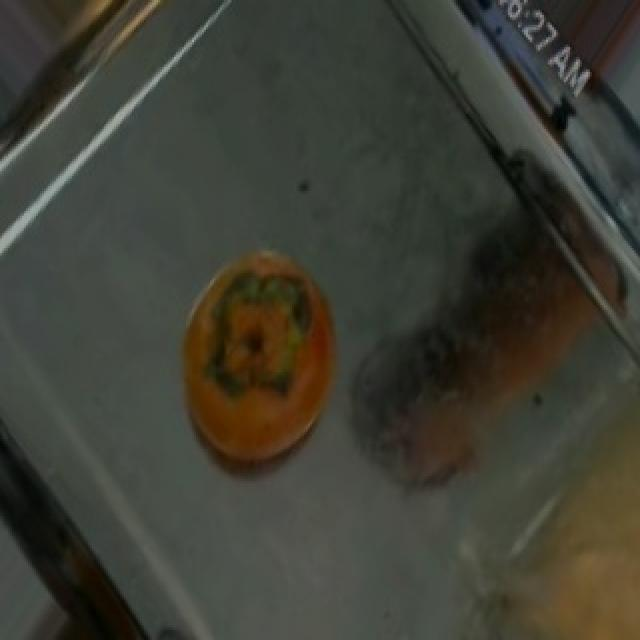Fruit: (160, 241, 364, 484)
